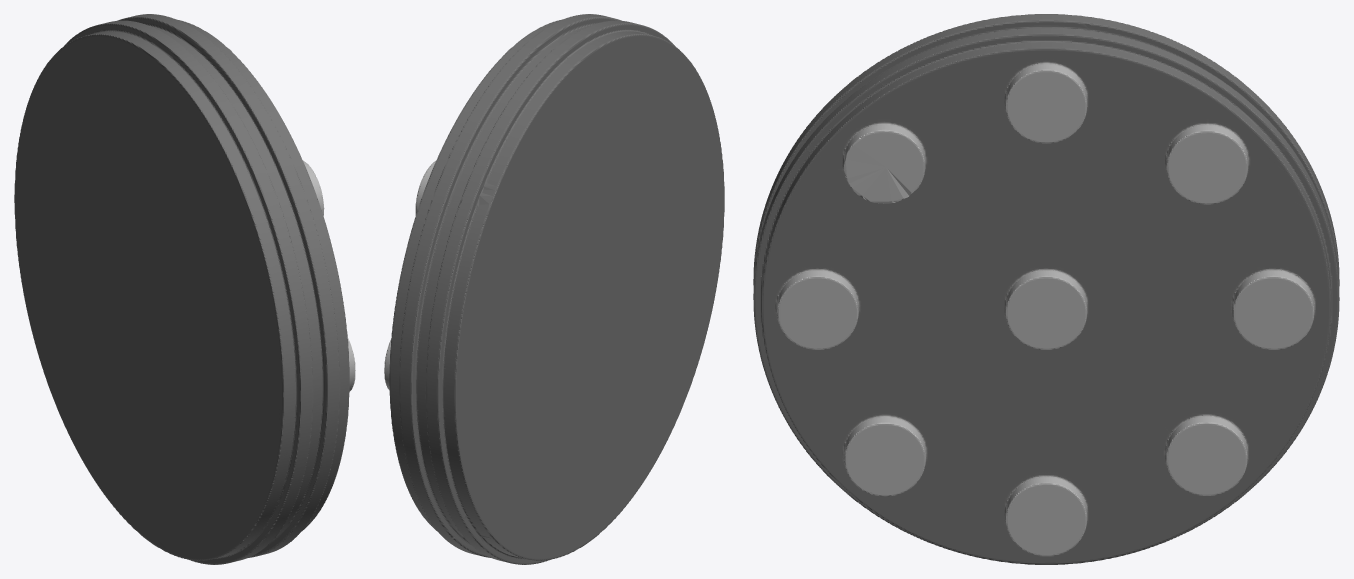
The model's file is PipeCover4.fbx.
3 renders of one model, left to right at view 1: azimuth 30°, elevation 25°; view 2: azimuth 150°, elevation 25°; view 3: azimuth 270°, elevation 25°, orthographic. The views are drawn at different scales.
Visible parts, largest first — view 1: PipeCover4; view 2: PipeCover4; view 3: PipeCover4.
Boxes of the visible parts, left/top/right/bottom form: PipeCover4: left=14, top=14, right=355, bottom=564; PipeCover4: left=384, top=14, right=724, bottom=564; PipeCover4: left=753, top=14, right=1339, bottom=564.
Size of the model in its own units: 34.14 by 205 by 205.
